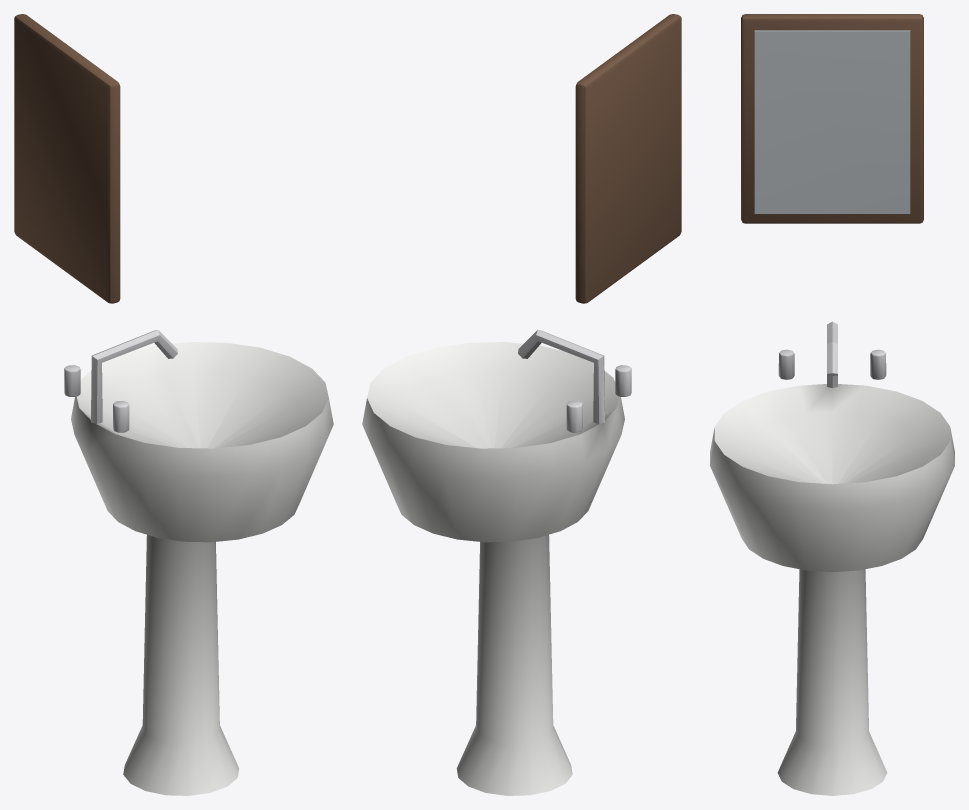
Rendered from sink.glb.
3 renders of one model, left to right at view 1: azimuth 30°, elevation 25°; view 2: azimuth 150°, elevation 25°; view 3: azimuth 270°, elevation 25°, orthographic. The views are drawn at different scales.
Parts seen in each view (by area): view 1: boat_porcelain, boat_darkwood, boat_chrome2; view 2: boat_porcelain, boat_darkwood, boat_chrome2; view 3: boat_porcelain, boat_mirrorg, boat_darkwood, boat_chrome2.
Boxes of the visible parts, x1,y1,x2,y2 form: boat_porcelain: (71, 342, 333, 795); boat_darkwood: (14, 14, 120, 303); boat_chrome2: (64, 330, 177, 432); boat_porcelain: (362, 342, 624, 795); boat_darkwood: (575, 14, 681, 303); boat_chrome2: (518, 330, 631, 432); boat_porcelain: (710, 384, 954, 795); boat_mirrorg: (754, 30, 910, 213); boat_darkwood: (741, 14, 923, 223); boat_chrome2: (778, 321, 886, 387).
Size of the model in its own units: 0.605 by 1.7 by 0.5345.
